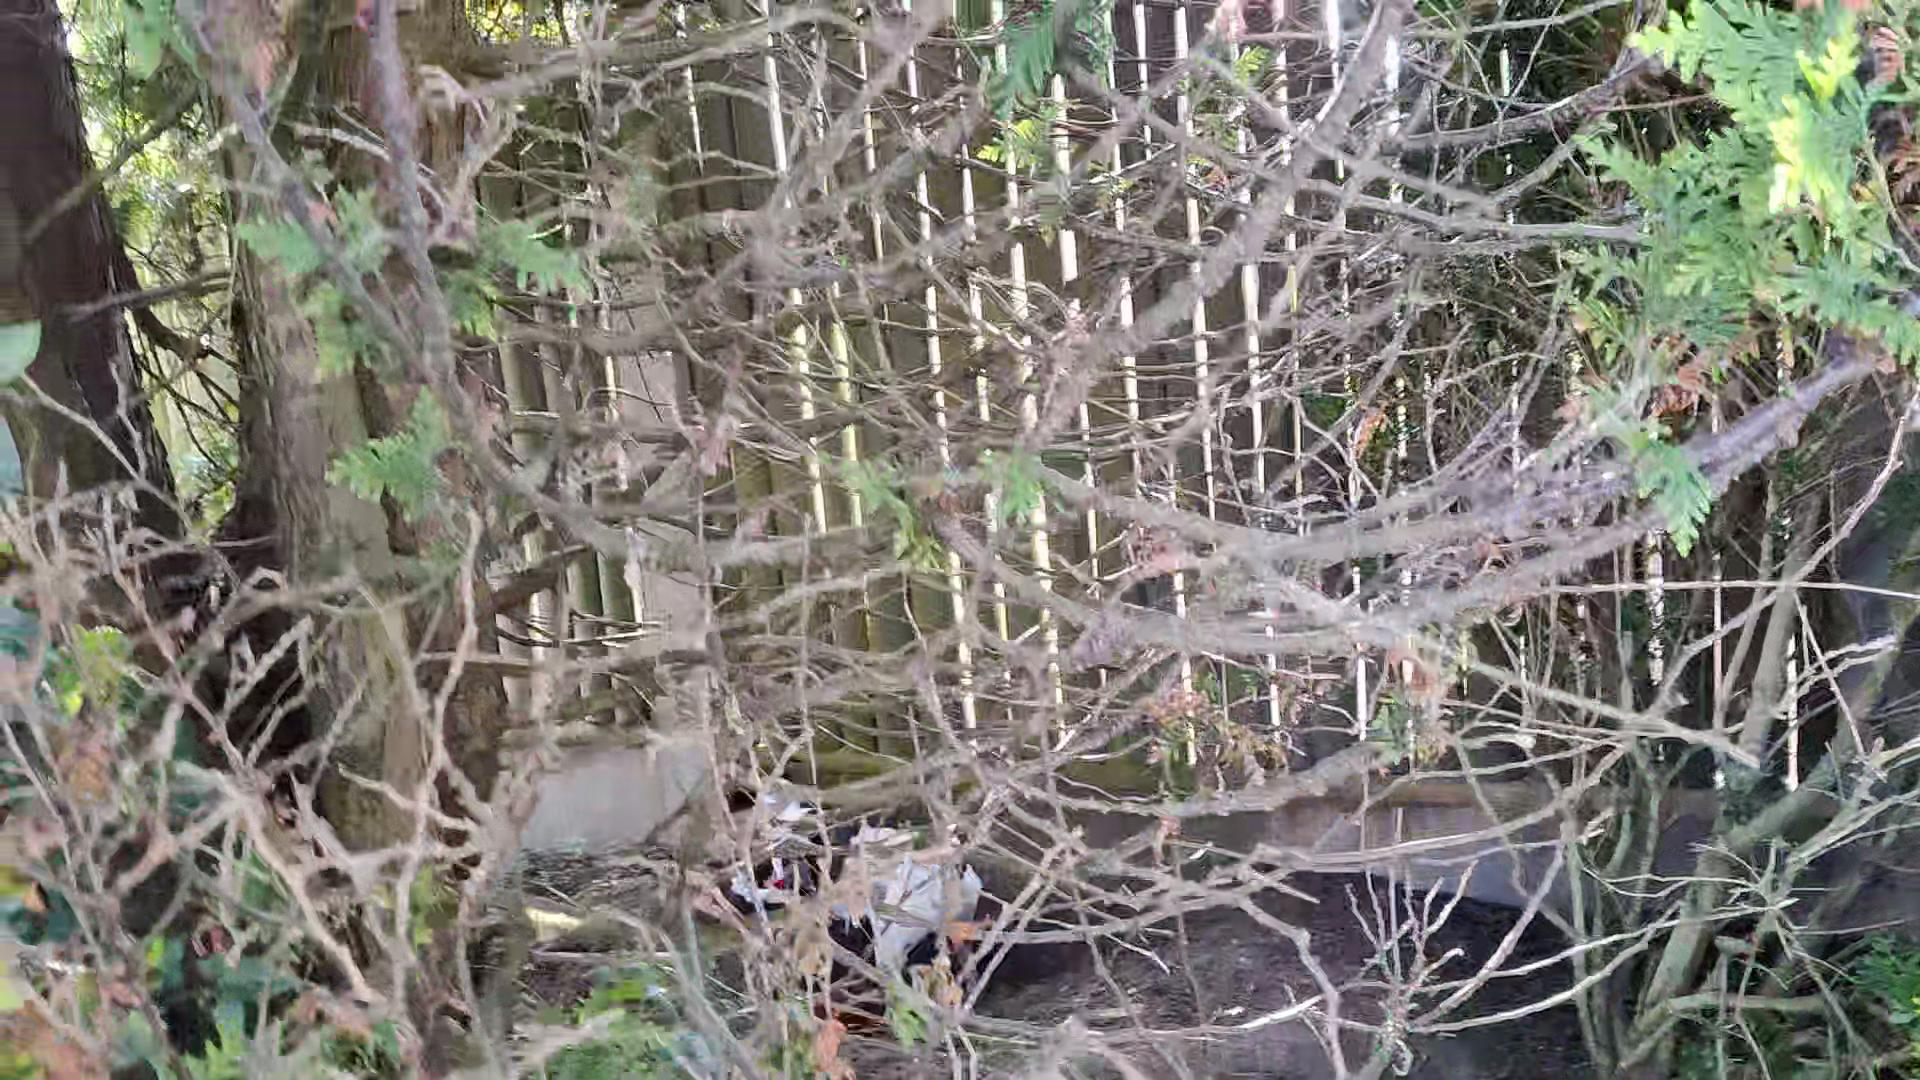Dog: (703, 735, 998, 1009)
